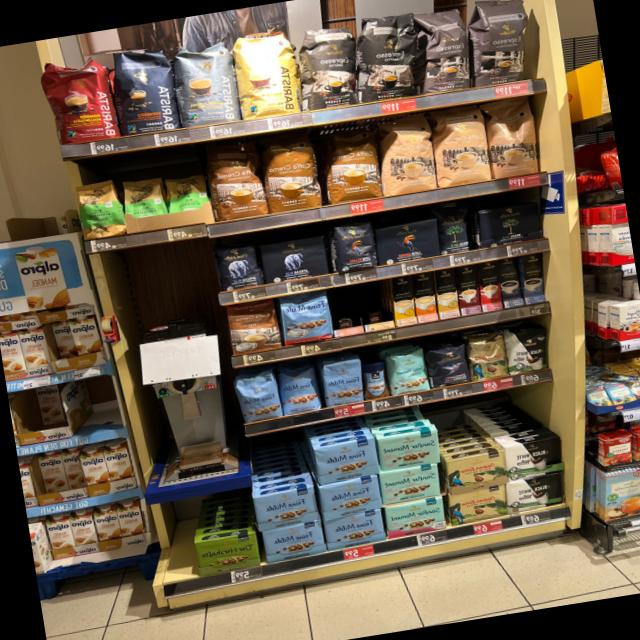AB Bohne: (216, 245, 262, 292)
AB Gemahlen: (260, 235, 330, 284)
Athiopien Bohne: (74, 178, 126, 241)
BM Bohne: (436, 203, 478, 255)
BM Gemahlen: (474, 200, 546, 250)
BW Bohne: (504, 324, 555, 376)
BW Gemahlen: (506, 471, 570, 515), (502, 436, 566, 480)
Barista CB: (228, 30, 304, 121)
Barista CC: (170, 38, 242, 130)
Barista Espresso: (108, 44, 181, 136)
Barista Kolumbien: (38, 54, 117, 147)
C Fino Bohne: (426, 340, 471, 390)
CC Mild: (373, 113, 439, 198), (428, 104, 492, 188), (481, 96, 544, 180)
CC Vollmundig: (225, 299, 284, 356)
CC Vollmundig 36 Pads: (258, 132, 324, 214), (318, 125, 383, 206), (206, 140, 266, 224)
Colombia BB Bohne: (466, 332, 510, 382)
Colombia BB Gemahlen: (444, 449, 511, 495), (446, 484, 510, 526)
Espresso Aromatisch: (462, 0, 538, 86), (410, 7, 478, 96)
Espresso Kraftig: (358, 12, 420, 103), (300, 22, 359, 112)
FM 36 Pads: (278, 290, 334, 346)
FM Bohne: (234, 371, 284, 425), (319, 356, 368, 408), (275, 364, 323, 416)
FM Gemahlen: (313, 436, 381, 484), (252, 484, 320, 531), (318, 473, 384, 520), (260, 519, 326, 563), (322, 507, 388, 551)
FM Instant: (359, 359, 391, 400)
Herzhatfe Mundig: (194, 530, 263, 578)
LG Bohne: (329, 218, 380, 274)
LG Gemahlen: (372, 217, 444, 266)
SM Bohne: (386, 347, 430, 396)
SM Gemahlen: (376, 428, 444, 472), (384, 495, 448, 539), (378, 463, 443, 505)
Simo CCMild bigpack: (391, 275, 416, 326)
Simo CCVollmundig bigpack: (413, 271, 438, 323)
Simo Decaff: (434, 268, 460, 320)
Simo Es Brazil: (478, 261, 503, 312)
Simo Es Caramel: (456, 264, 481, 315)
Simo Es Kraft: (497, 257, 524, 308)
Simo Es Vanilla: (523, 253, 546, 304)
